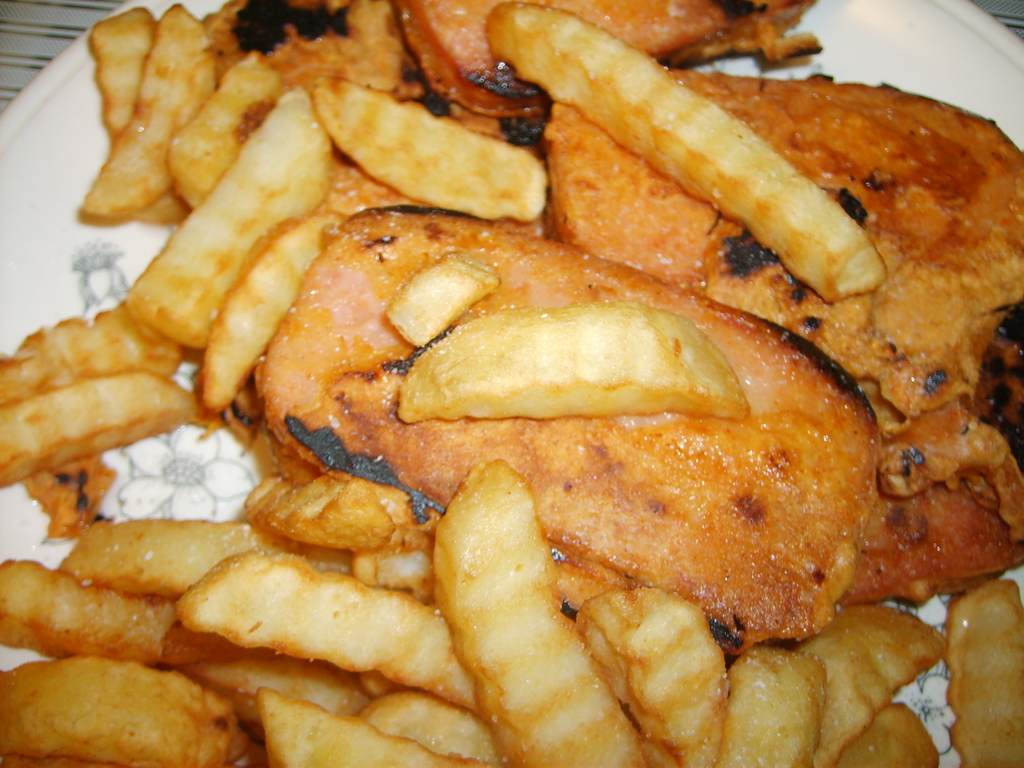French fries: (0, 451, 1024, 768), (0, 0, 555, 495), (496, 4, 892, 304), (399, 305, 754, 420), (382, 258, 491, 349)
